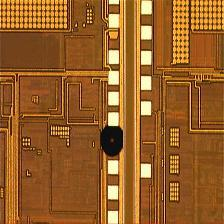PARTICLE: (95, 124, 131, 160)
